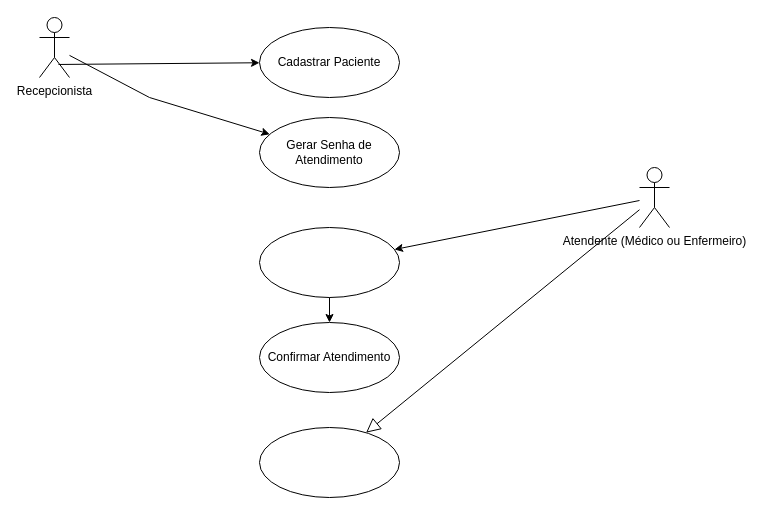
Image size: 763x515. Some labels were removed from this diagram. Each missing label, with the centre of its shape:
Cadastrar Anamnese: [329,462]
Chamar Paciente pela senha: [329,262]
